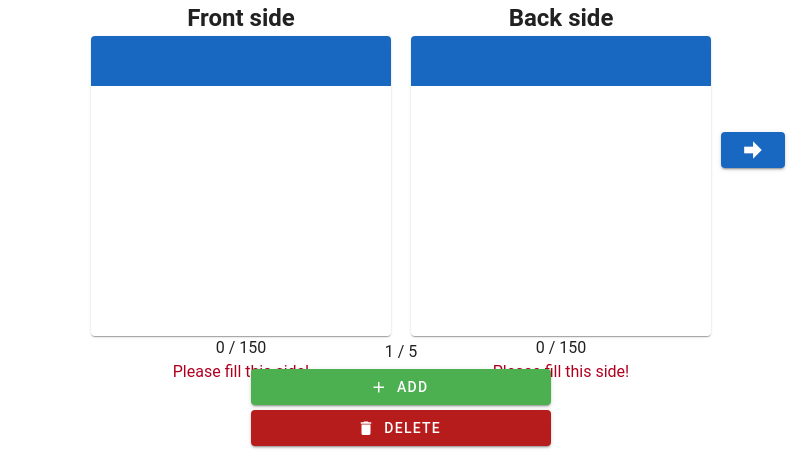
Test case: FlashcardForm component › Delete button › Delete button works correctly if the user is not on the first card
What coordinates should you click on to do the following:
click the button named "Move to next flashcard"
I would click on:
 (753, 150)
Its box is [721, 132, 785, 168].
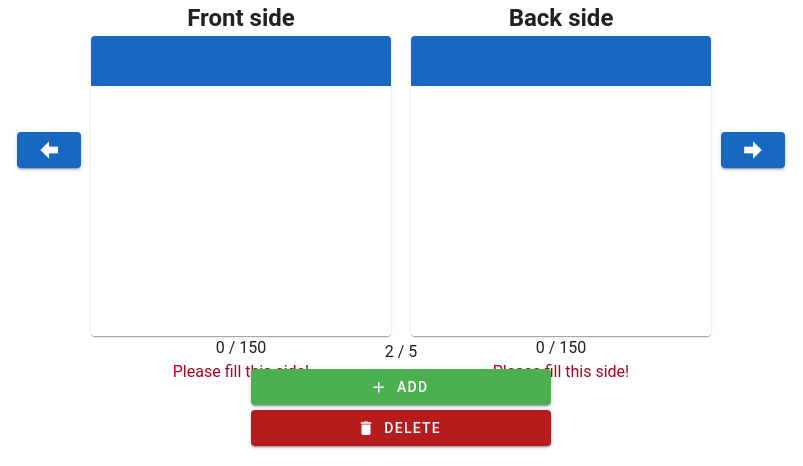
What coordinates should you click on to do the following:
click the button named "Move to next flashcard"
I would click on:
 (753, 150)
Its box is [721, 132, 785, 168].
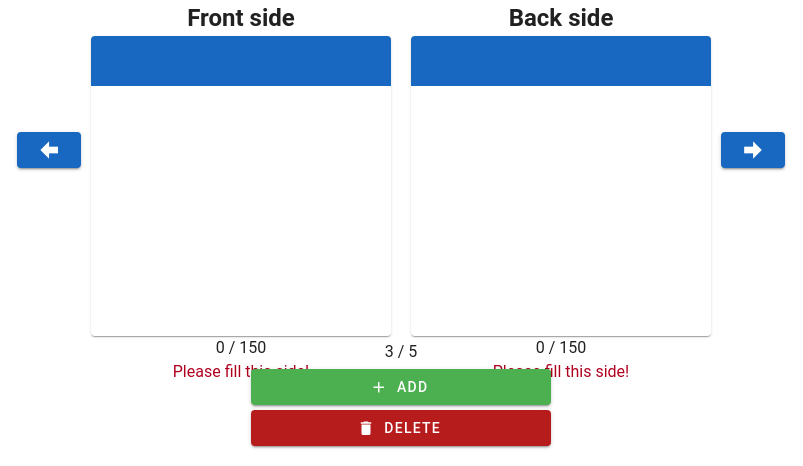
What coordinates should you click on to do the following:
click the button "Delete"
I would click on:
 (401, 428)
Its box is [251, 410, 551, 446].
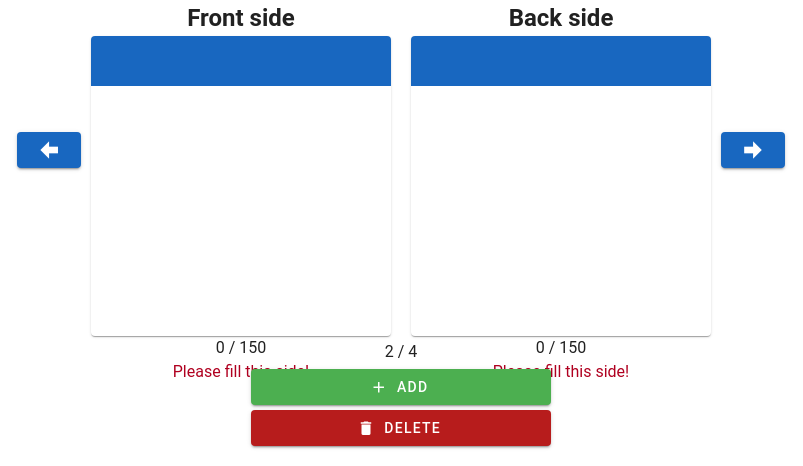
Result: the text "2 / 4" is shown at [385, 340, 417, 364]
